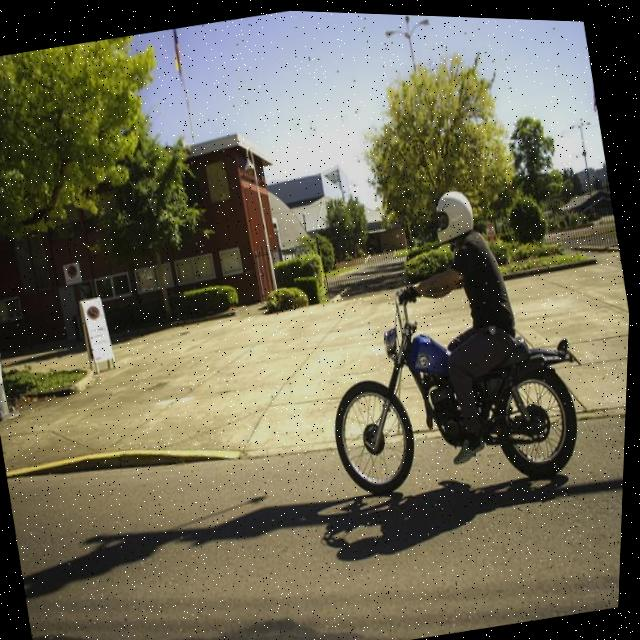motorcycle: (301, 243, 616, 520)
